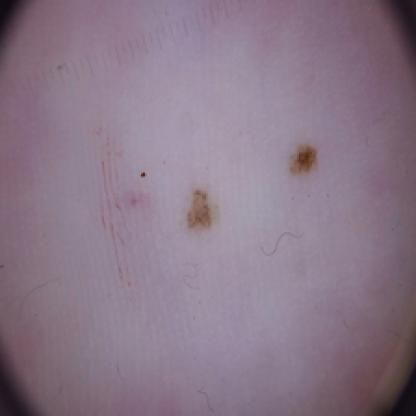benign: (102, 132, 338, 251)
